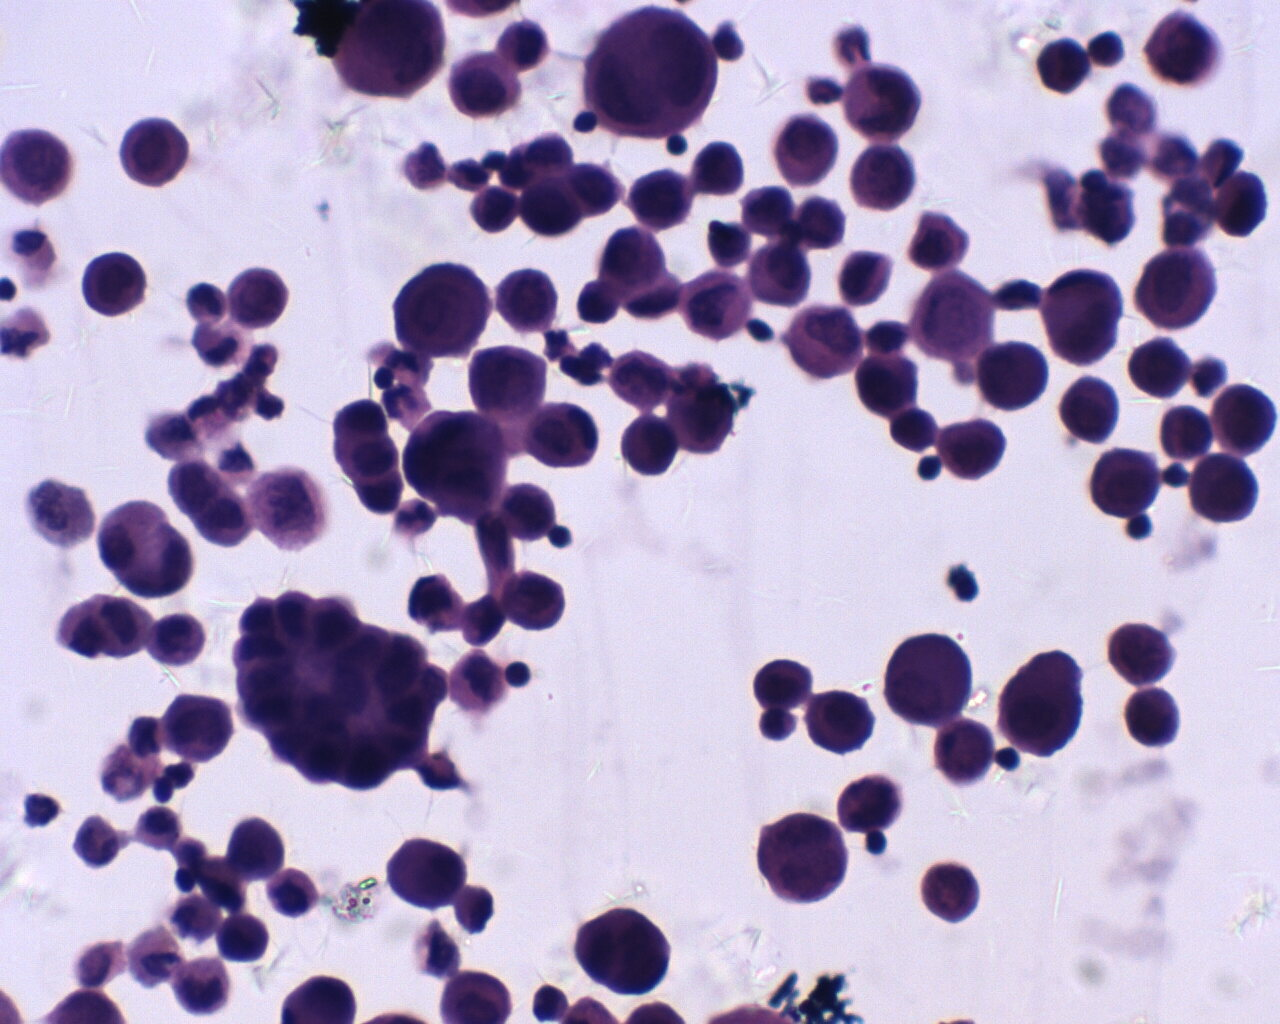ab: (582, 1, 715, 136), (405, 410, 509, 523), (391, 259, 490, 356), (755, 811, 853, 907), (1000, 648, 1085, 758), (577, 905, 671, 996), (1043, 264, 1125, 367), (912, 272, 1001, 362), (883, 633, 970, 722), (1189, 453, 1269, 530), (850, 63, 924, 142), (468, 344, 545, 418), (3, 127, 75, 207), (1207, 379, 1279, 456), (794, 305, 865, 380), (1103, 616, 1180, 686), (677, 267, 751, 338), (165, 688, 234, 760), (850, 145, 917, 216), (226, 263, 293, 330), (627, 169, 697, 232), (495, 267, 561, 332)
meso: (447, 53, 527, 121), (772, 116, 840, 189), (116, 118, 189, 185), (745, 245, 813, 303)
